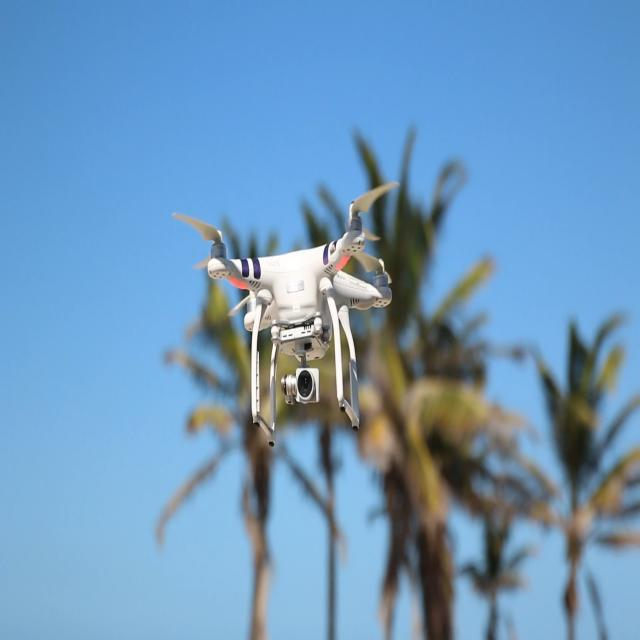Drone: (158, 184, 456, 456)
